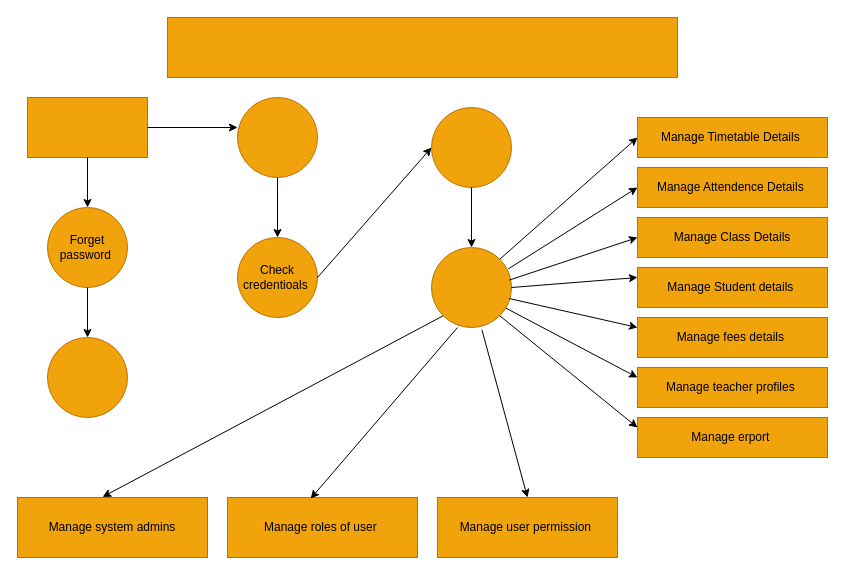
This 845x575 diagram has some shape labels left out. Each missing label, with the centre of its shape:
"Admin" belongs at [87,127].
"Check roles of access" belongs at [471,147].
"Login to system" belongs at [277,137].
"Manage modules" belongs at [471,287].
"Send email to user" belongs at [87,377].
"Student information system" belongs at [422,47].
